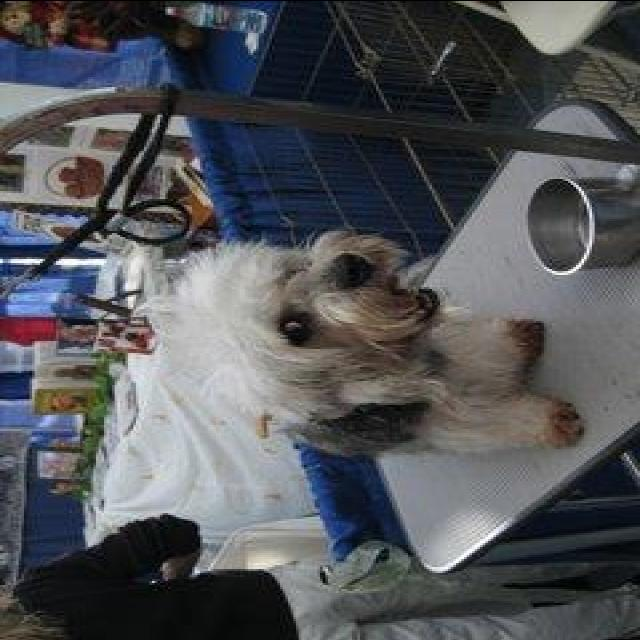dandie_dinmont: (133, 228, 587, 458)
